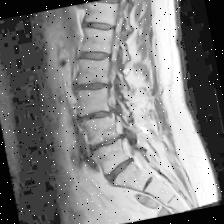disc: (80, 12, 119, 42), (77, 42, 116, 72)
hdisc: (80, 129, 136, 159), (98, 155, 146, 186), (74, 104, 119, 130), (72, 76, 118, 98)
